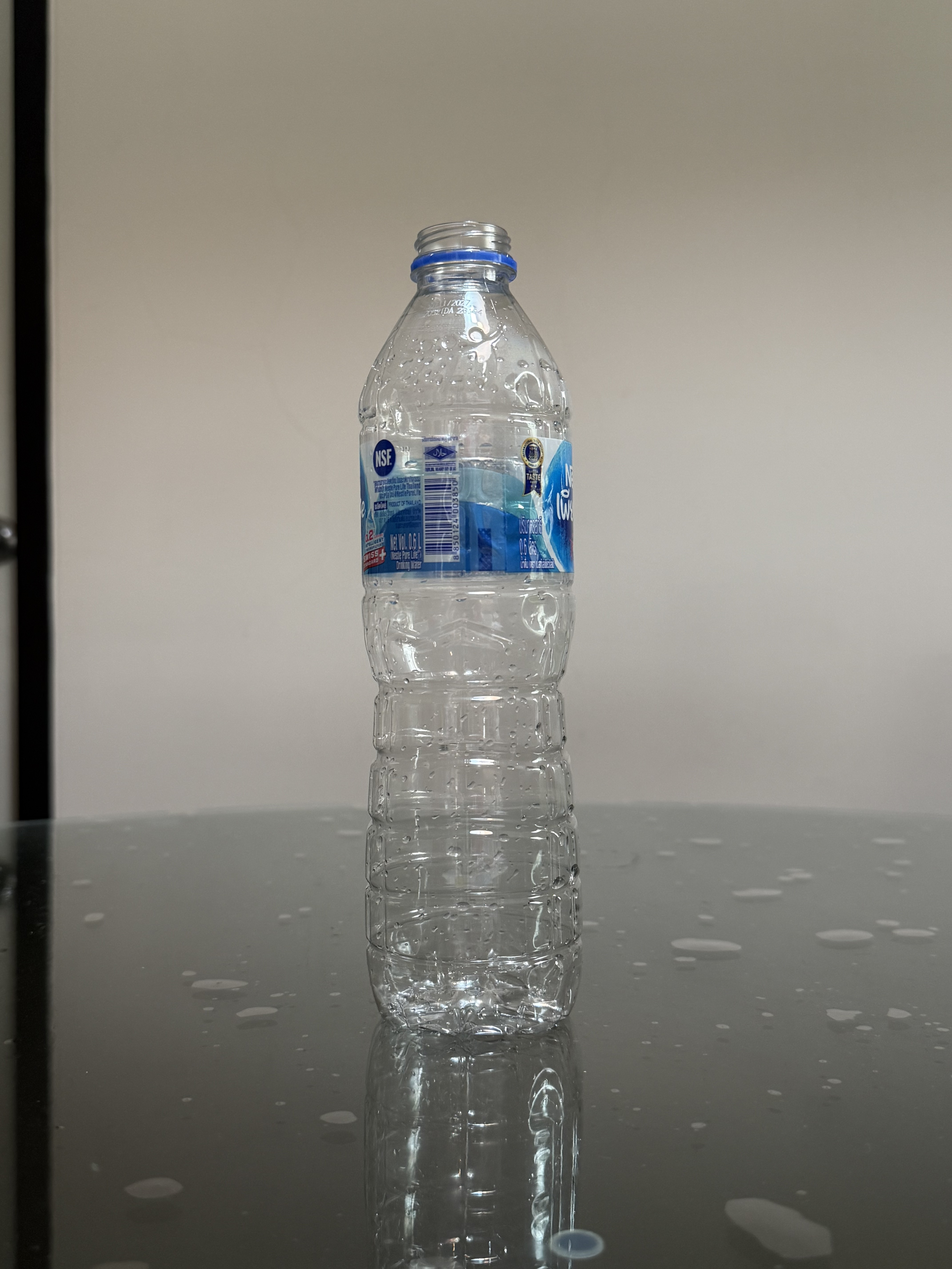no_cap: (409, 219, 519, 283)
